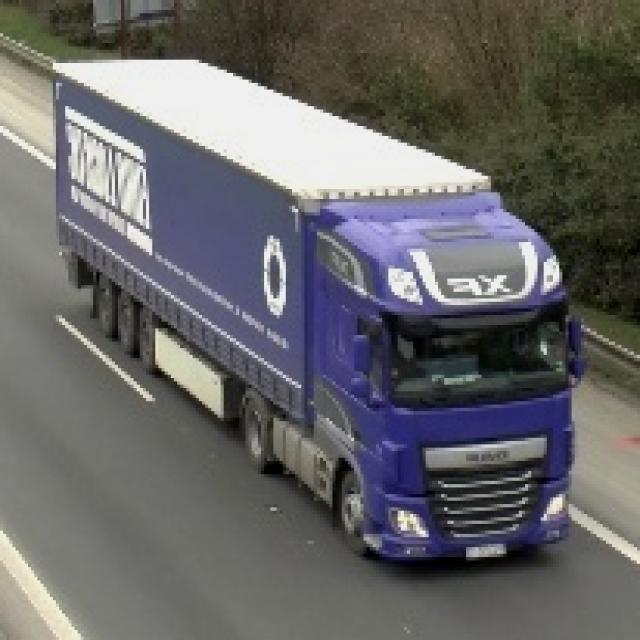TRUCK: (44, 62, 582, 575)
